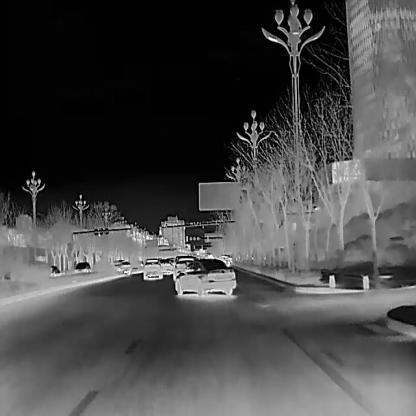car: (175, 259, 236, 296), (142, 259, 161, 280), (109, 257, 133, 269), (159, 256, 173, 275), (71, 260, 91, 272), (47, 263, 59, 273)
